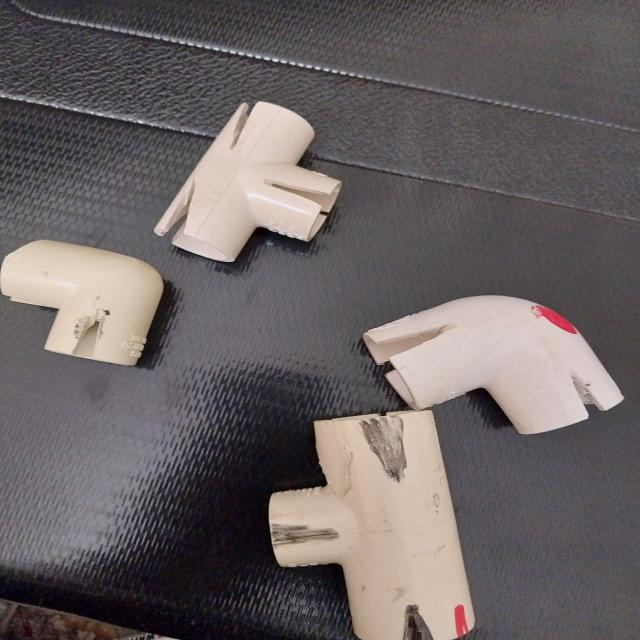Defective: (329, 325, 473, 367), (363, 416, 412, 484), (166, 188, 212, 248), (260, 178, 333, 212), (74, 302, 109, 362), (268, 529, 343, 551), (232, 108, 264, 148), (575, 379, 604, 417), (403, 606, 434, 639), (453, 606, 470, 638)
L Joint: (364, 295, 628, 435), (0, 253, 178, 364)
T Joint: (263, 410, 476, 637), (156, 96, 345, 264)
